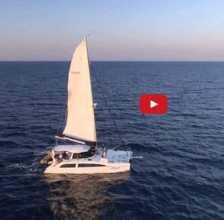fanchuan: (38, 35, 135, 177)
